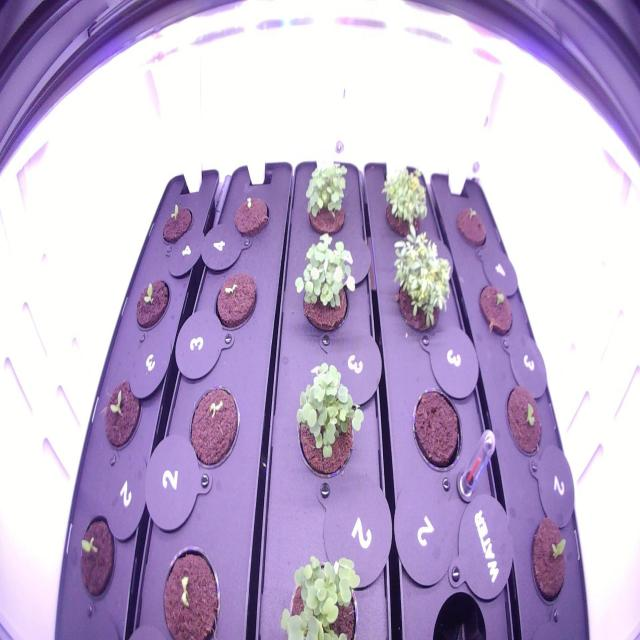germination: (292, 354, 367, 489), (284, 225, 361, 339), (274, 545, 366, 640), (158, 538, 224, 638), (184, 378, 244, 476), (527, 509, 574, 611), (74, 506, 120, 608), (300, 154, 351, 240), (502, 378, 546, 468), (99, 374, 145, 456), (212, 267, 260, 336), (131, 269, 173, 338), (474, 279, 516, 347), (228, 190, 274, 242), (451, 200, 491, 255), (158, 196, 195, 246)
pod: (407, 382, 469, 479)
